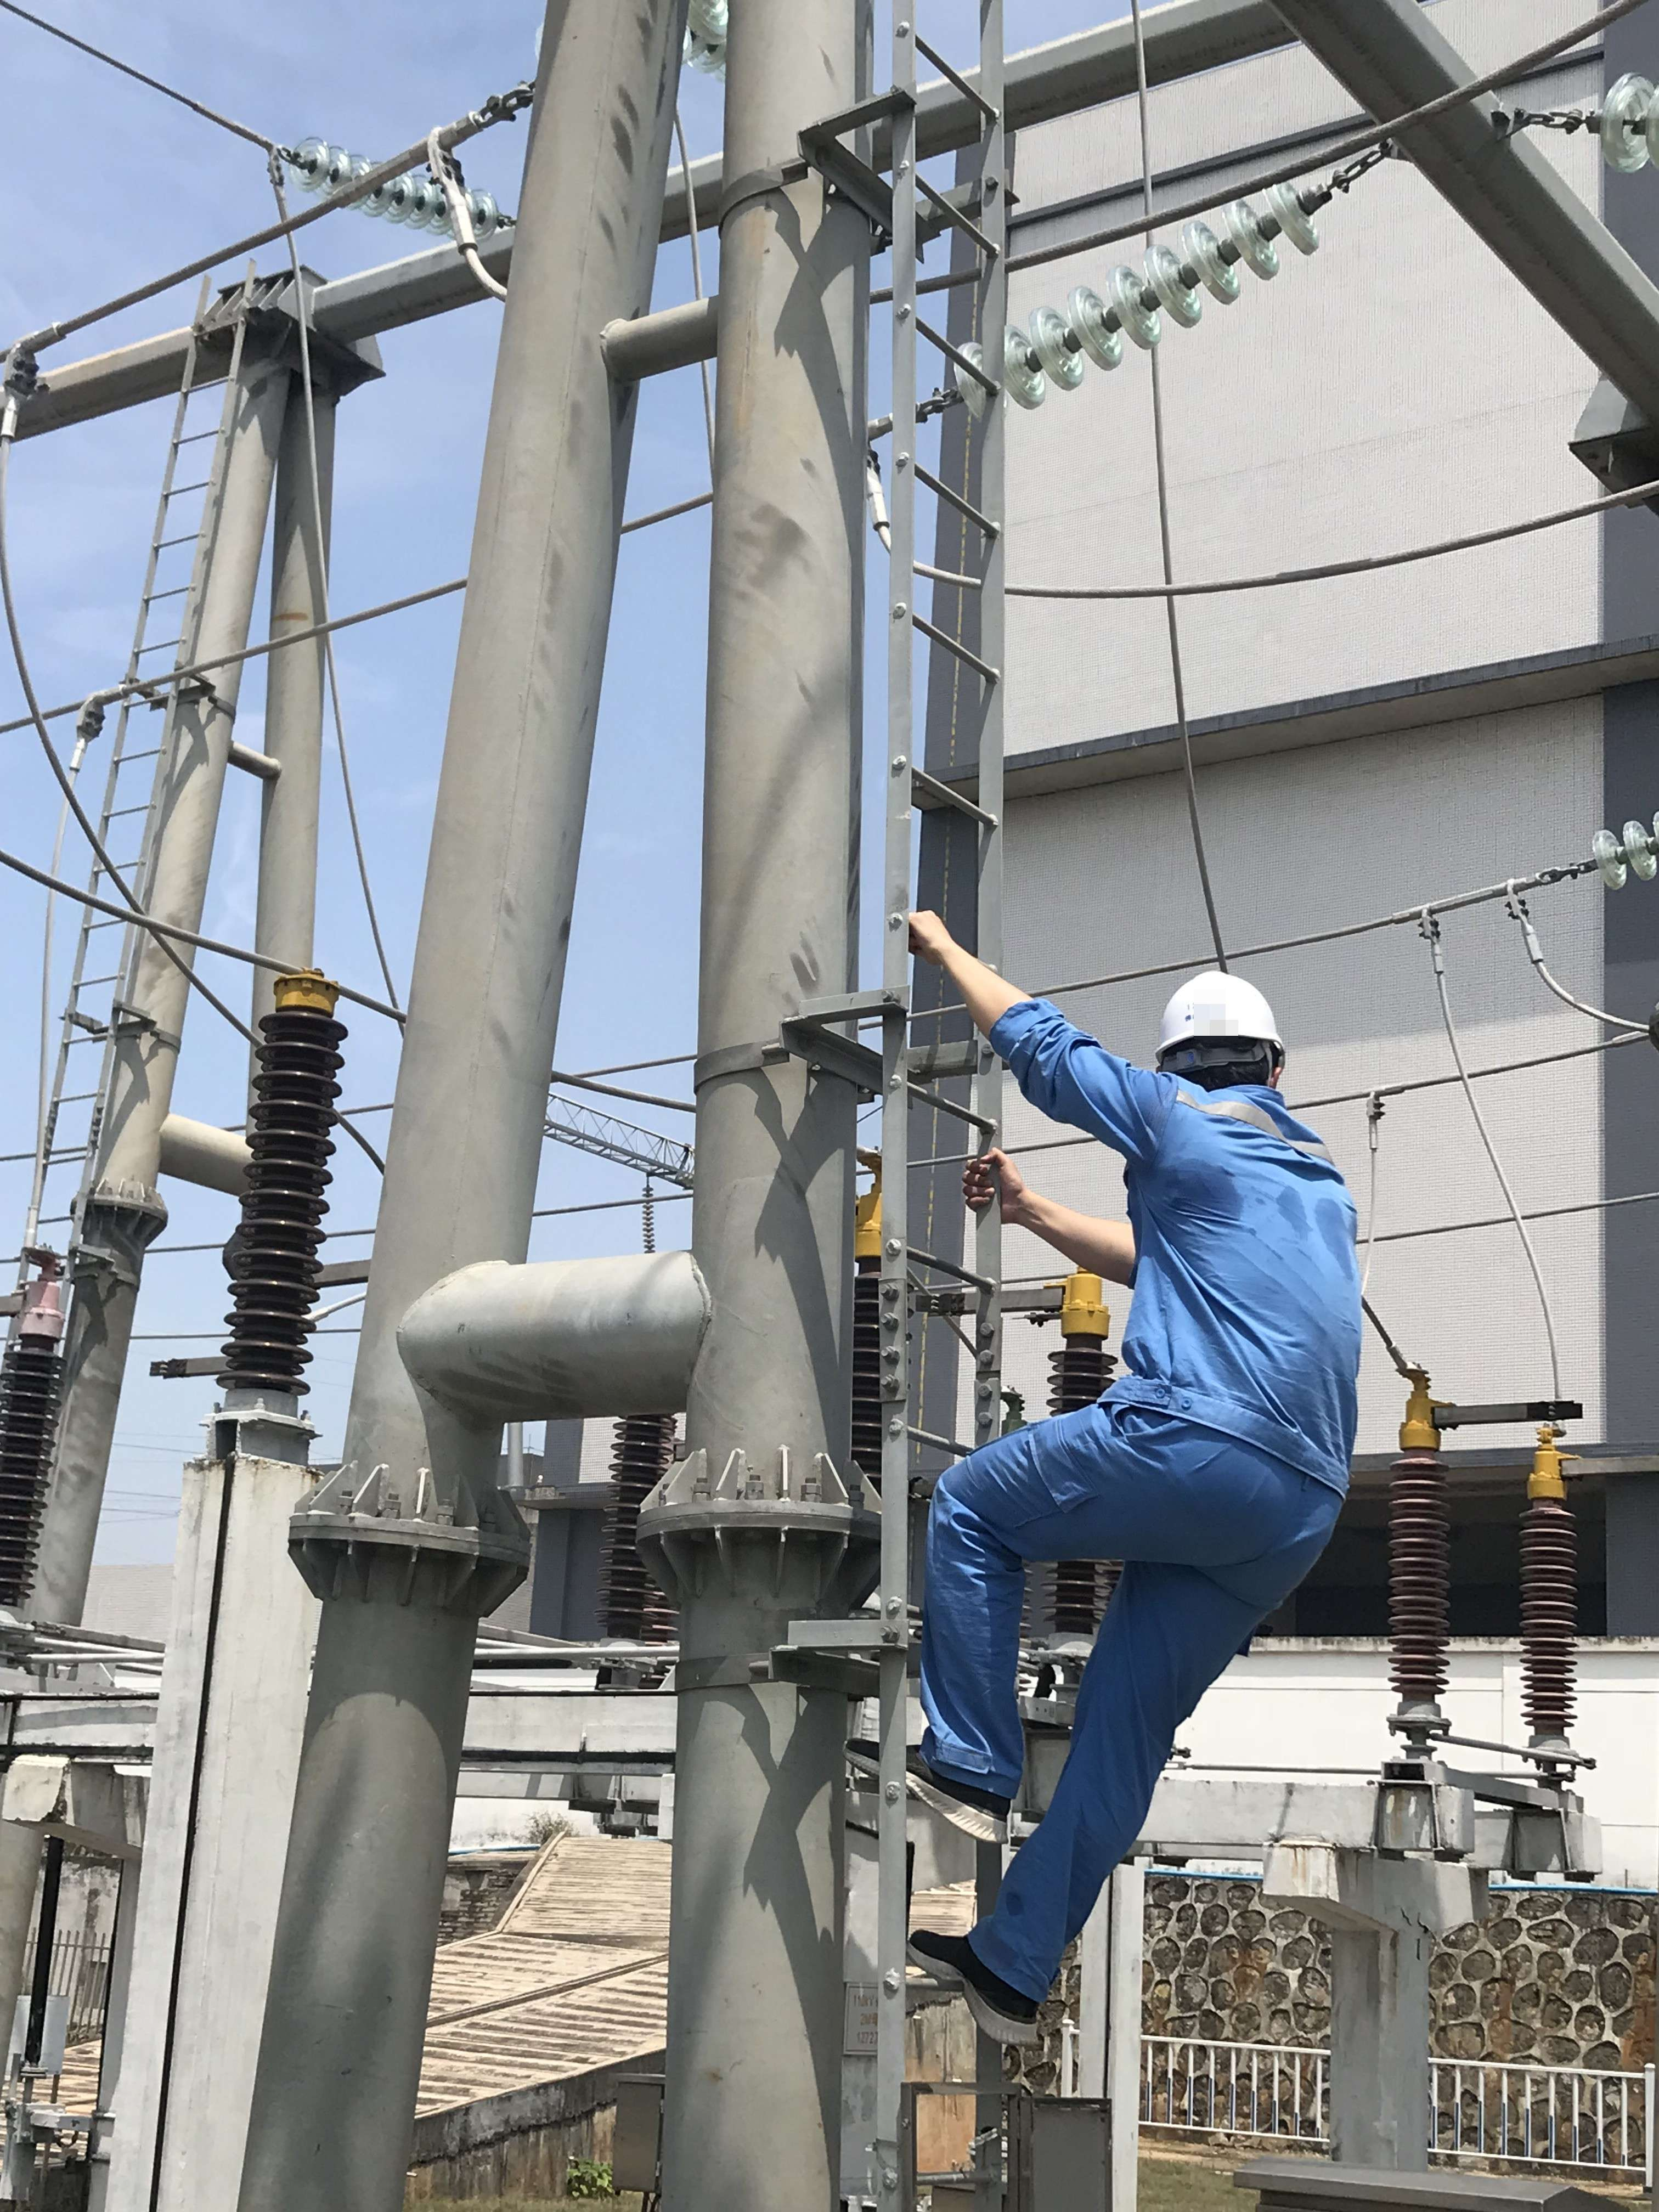downsuit: (910, 1460, 1371, 1994)
upsuit: (985, 1003, 1371, 1397)
wrongtop: (920, 937, 1065, 1071), (974, 1167, 1133, 1287)
